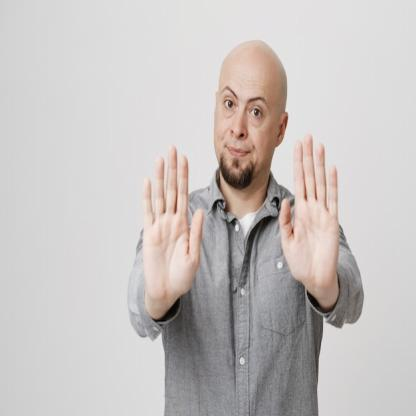stop: (278, 132, 344, 298), (139, 143, 204, 304)
